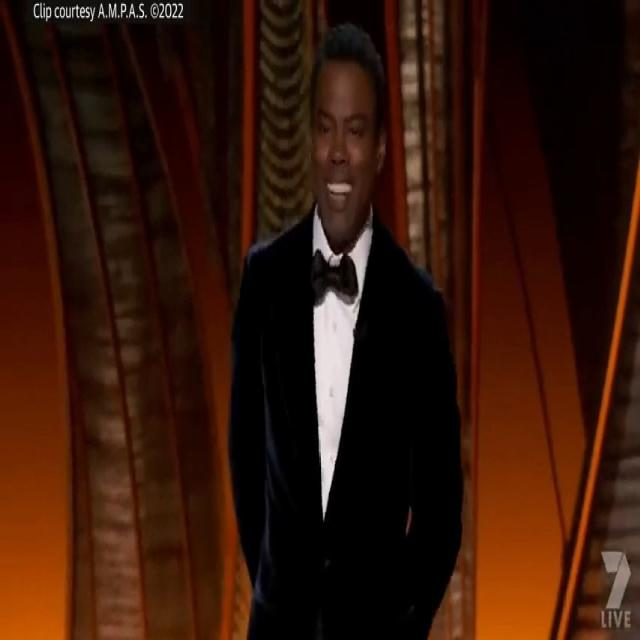non-fight: (226, 22, 465, 640)
